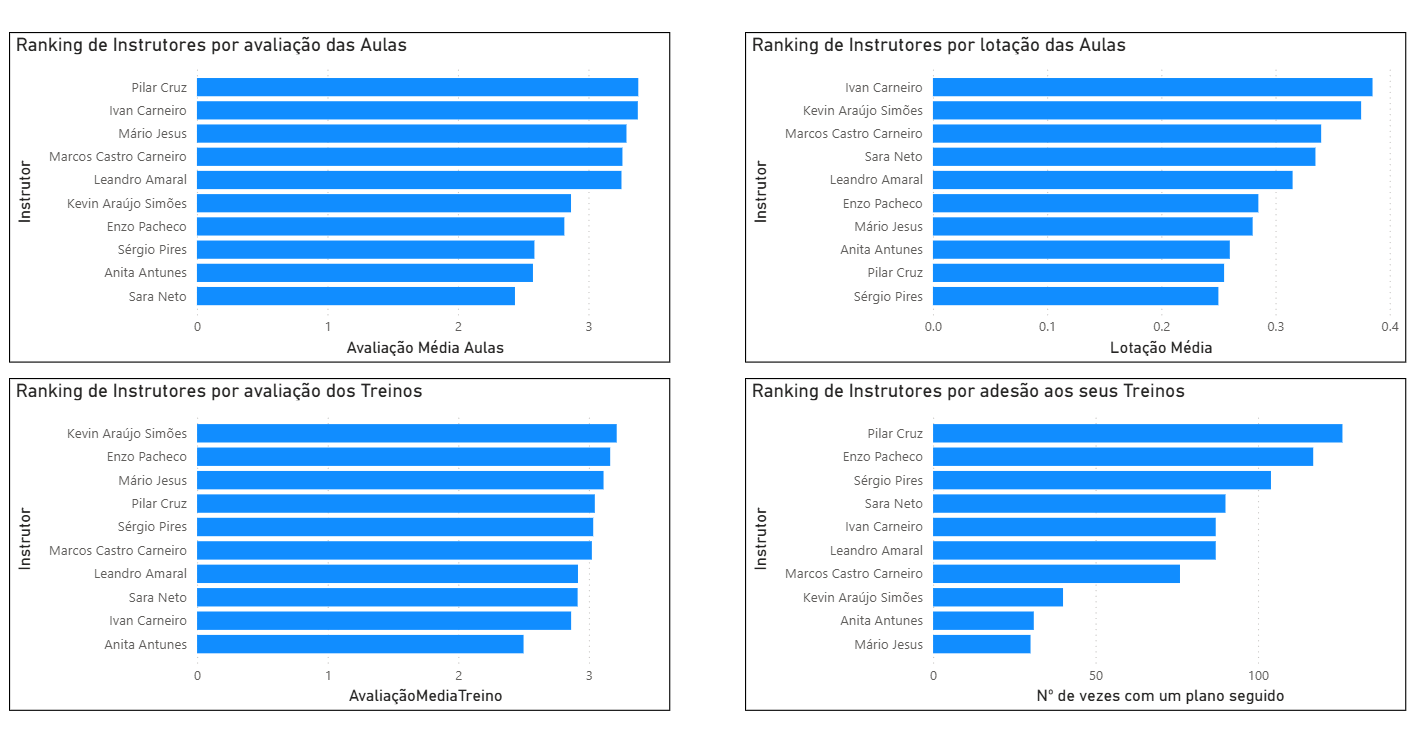

The page's visual inventory and layout, read from the dashboard file:
{"tool":"powerbi","page":{"name":"Desempenho Instruores","canvas":[1280,720],"ordinal":3},"visuals":[{"type":"barChart","title":"Ranking de Instrutores por avaliação das Aulas","fields":{"Y":["easyfit_dw dim_aula.AvaliaçãoMediaAula"],"Category":["easyfit_dw dim_instrutor.instrutor_nome"]},"box":[13.5,49.4,593.7,297.3],"z":0},{"type":"barChart","title":"Ranking de Instrutores por avaliação dos Treinos","fields":{"Y":["easyfit_dw dim_aula.AvaliaçãoMediaTreino"],"Category":["easyfit_dw dim_instrutor.instrutor_nome"]},"box":[13.5,360.2,593.7,299.1],"z":1000},{"type":"barChart","title":"Ranking de Instrutores por lotação das Aulas","fields":{"Y":["easyfit_dw tf_instrutor.Lotação Média"],"Category":["easyfit_dw dim_instrutor.instrutor_nome"]},"box":[674.6,49.4,593.7,297.3],"z":2000},{"type":"barChart","title":"Ranking de Instrutores por adesão aos seus Treinos","fields":{"Y":["Sum(easyfit_dw tf_instrutor.n_planos_seguidos)"],"Category":["easyfit_dw dim_instrutor.instrutor_nome"]},"box":[674.6,360.2,593.7,299.1],"z":3000}]}

Visuals, with their boxes on the page's 1280x720 design canvas (x1, y1, x2, y2). These are canvas units, not pixel positions in the 1413x745 screenshot, which may show the page scaled, cropped or inside an application window:
"Ranking de Instrutores por avaliação das Aulas" barChart: [left=14, top=49, right=607, bottom=347]
"Ranking de Instrutores por avaliação dos Treinos" barChart: [left=14, top=360, right=607, bottom=659]
"Ranking de Instrutores por lotação das Aulas" barChart: [left=675, top=49, right=1268, bottom=347]
"Ranking de Instrutores por adesão aos seus Treinos" barChart: [left=675, top=360, right=1268, bottom=659]
